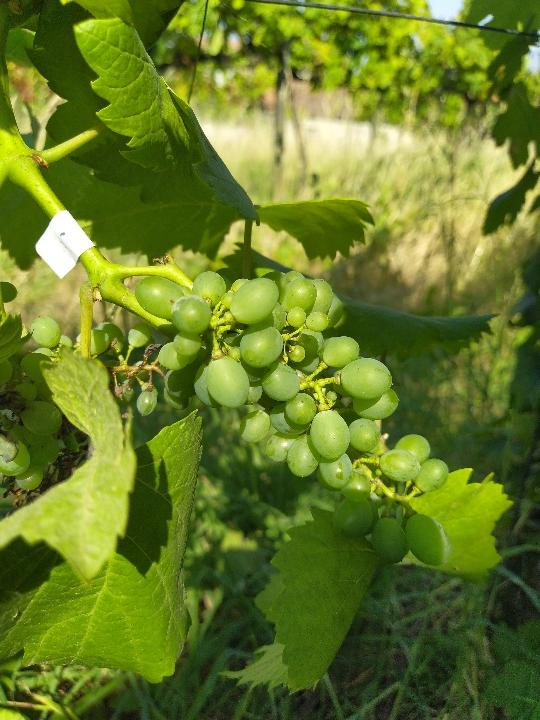grape: (115, 259, 469, 577)
